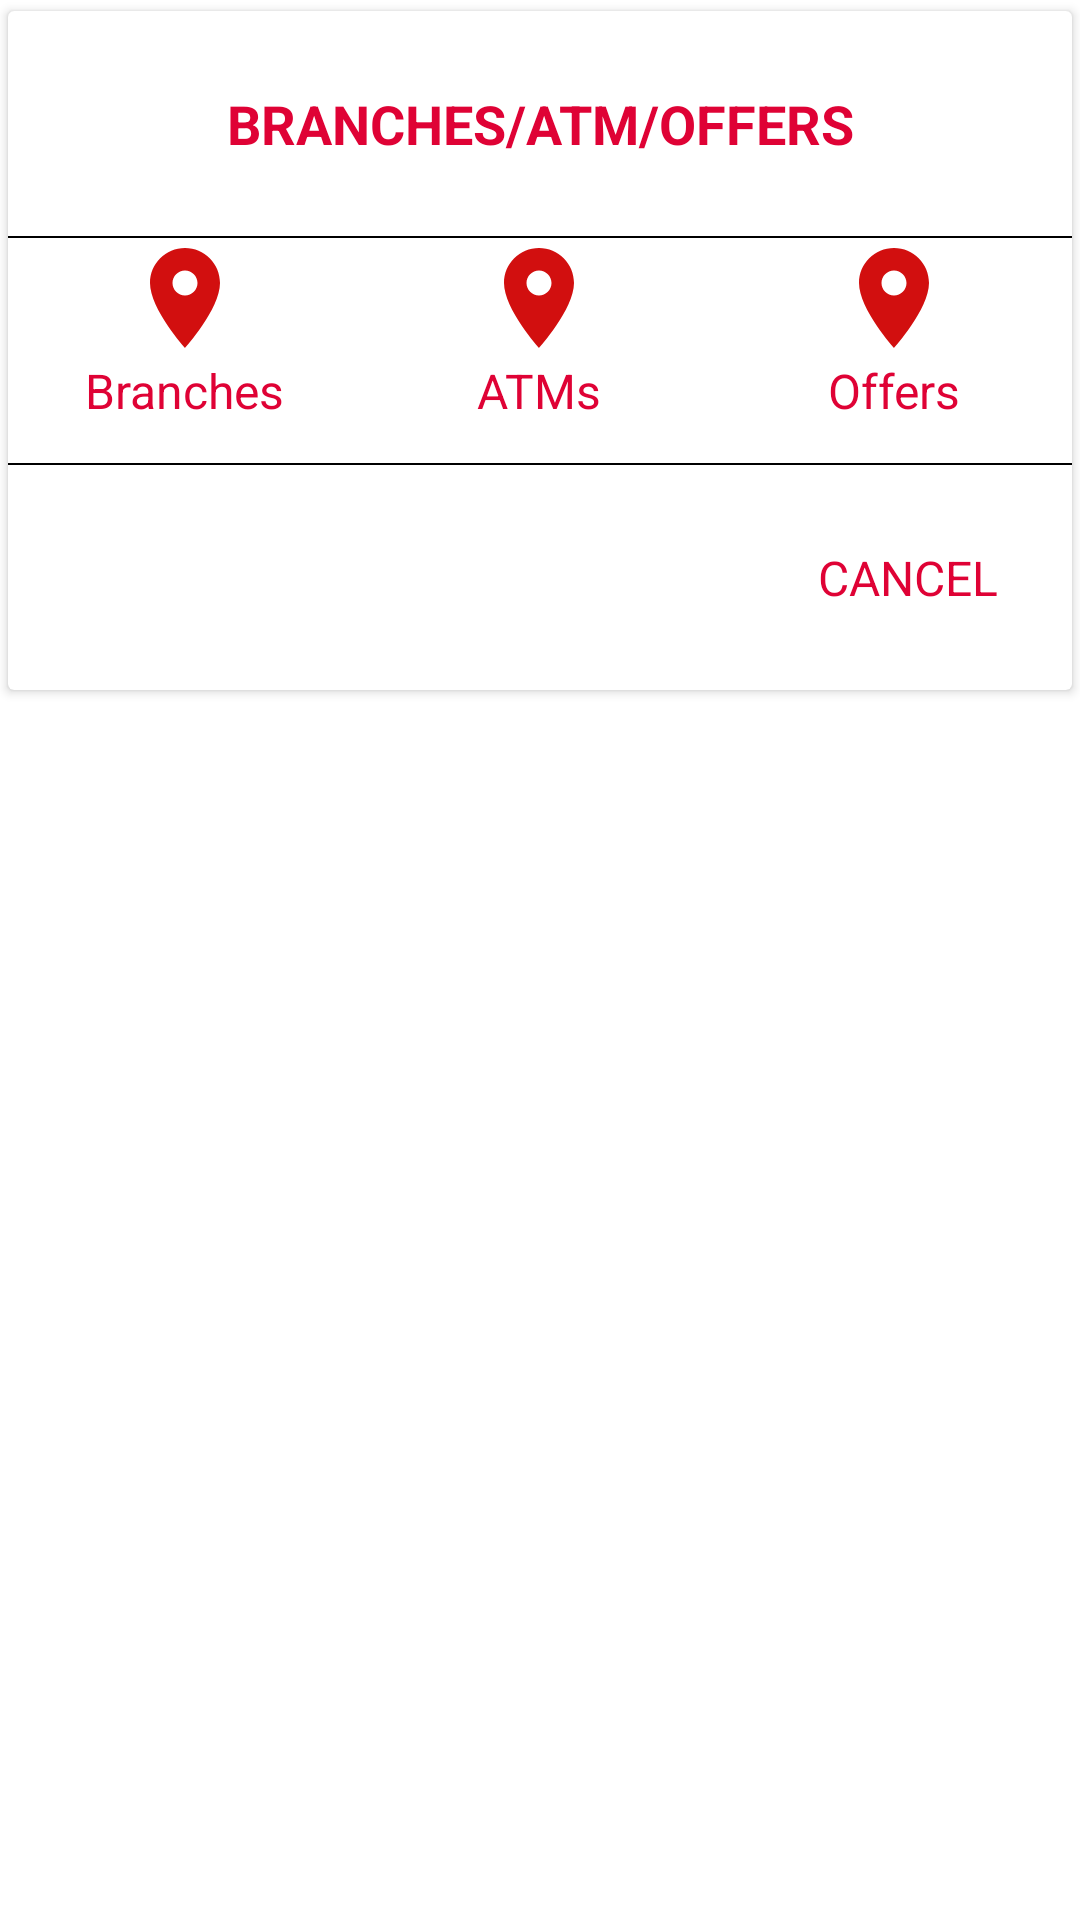

Icon click points for this 1080w x 1920h phone screenshot, format point (x, y):
location on: point (185, 298), point (539, 298), point (894, 298)
